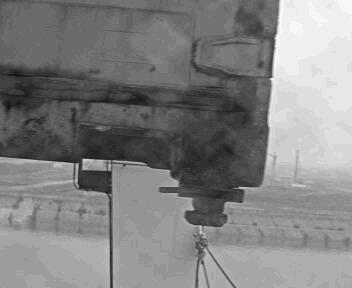twist_lock_1: (172, 182, 248, 228)
